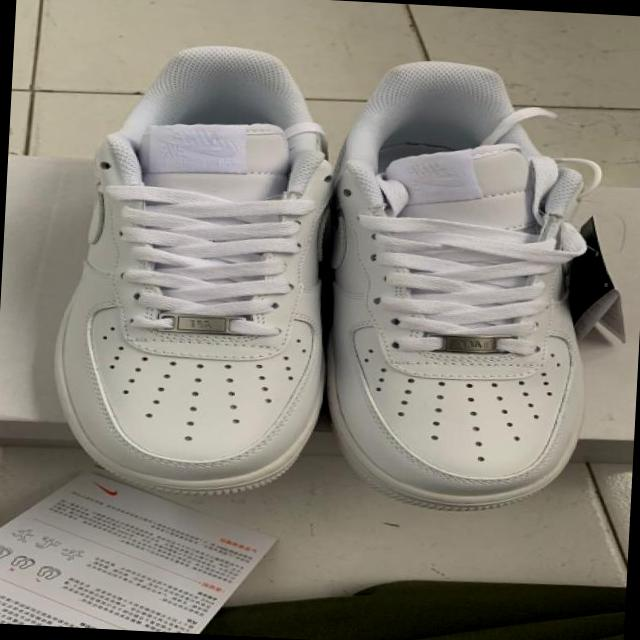nike_original_airforce: (36, 36, 347, 504), (314, 46, 612, 518)
